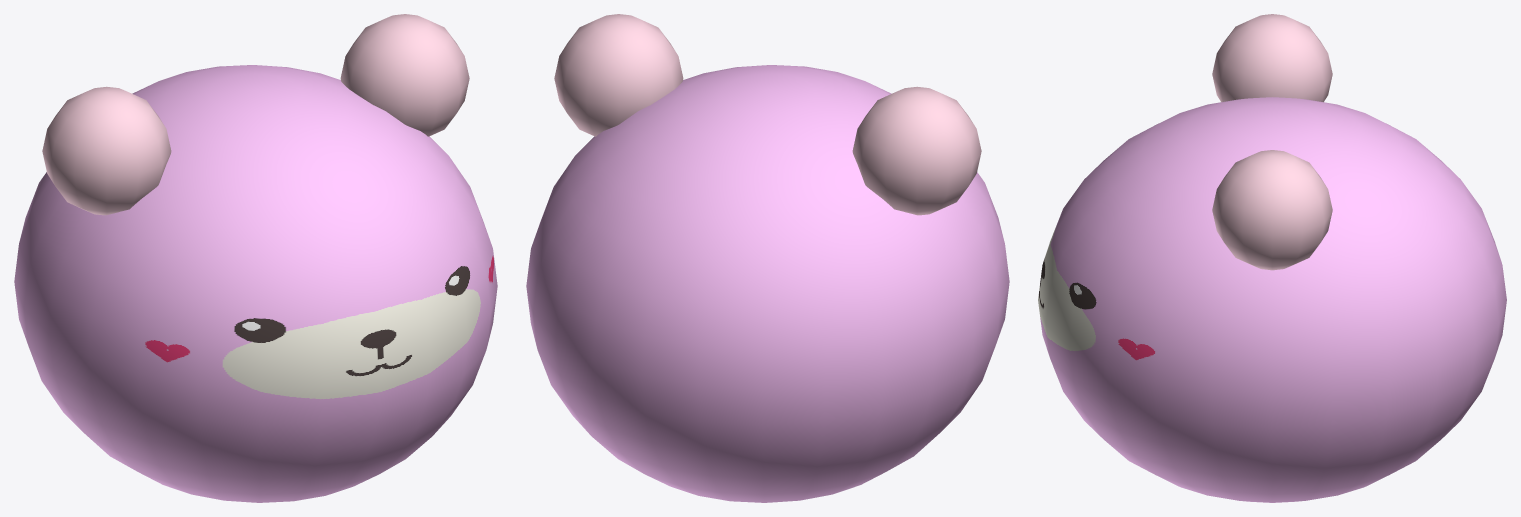
File: pinky_bear.glb
The picture shows the model from 3 angles, left to right: view 1: azimuth 30°, elevation 25°; view 2: azimuth 150°, elevation 25°; view 3: azimuth 270°, elevation 25°; orthographic projection. The views are drawn at different scales.
Parts seen in each view (by area): view 1: Pinky_Bear; view 2: Pinky_Bear; view 3: Pinky_Bear.
Boxes of the visible parts, left/top/right/bottom form: Pinky_Bear: left=14, top=14, right=497, bottom=502; Pinky_Bear: left=526, top=14, right=1009, bottom=502; Pinky_Bear: left=1038, top=14, right=1506, bottom=502.
Bounding box in the file's own units: 1.33 × 1.29 × 1.4.
Materials: 2 (1 with a texture image).
